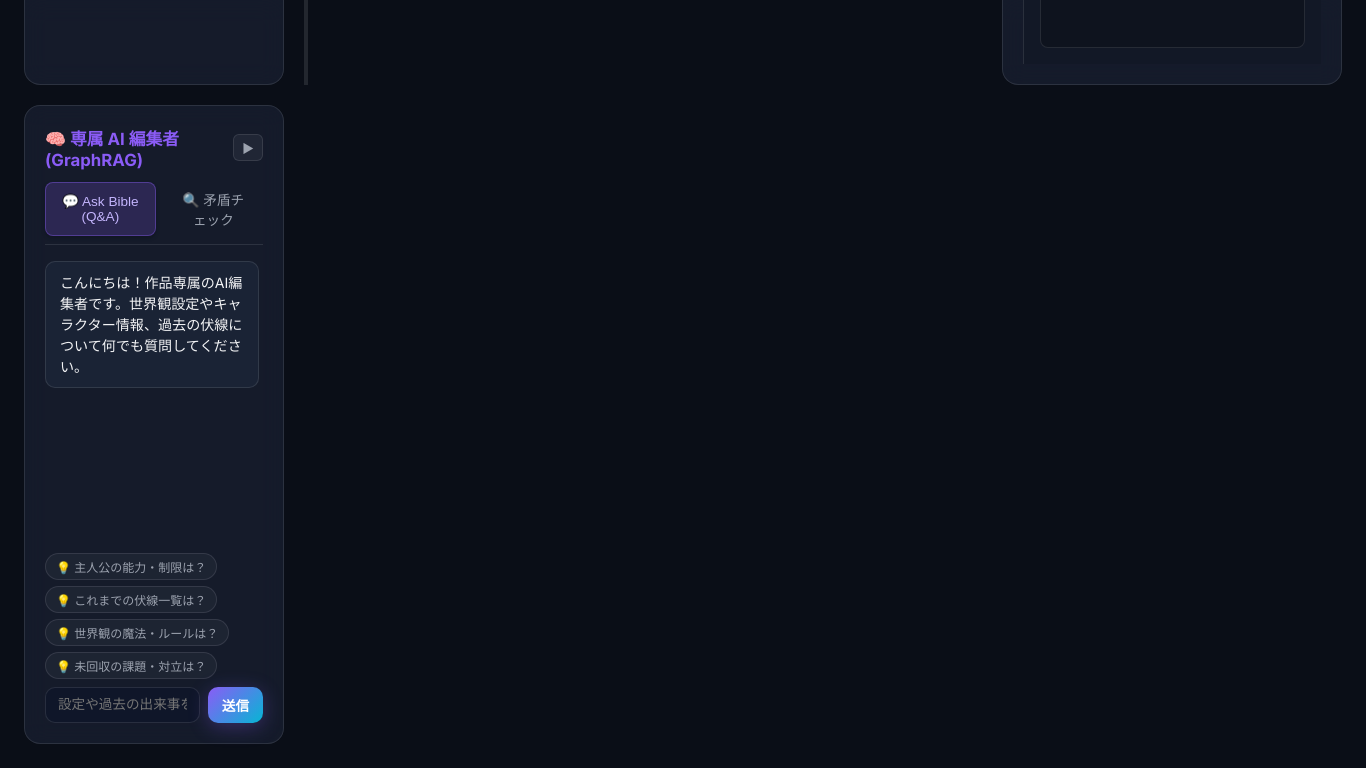
StudioWorkspace component › renders studio components with synchronized context data
(page scrolled)
// Ask Bible の Q&A 送信
Type "古代魔導剣術の歴史は？" into the field with test id "input-ask-bible" at (122, 704), box x1=45 y1=686 x2=200 y2=722
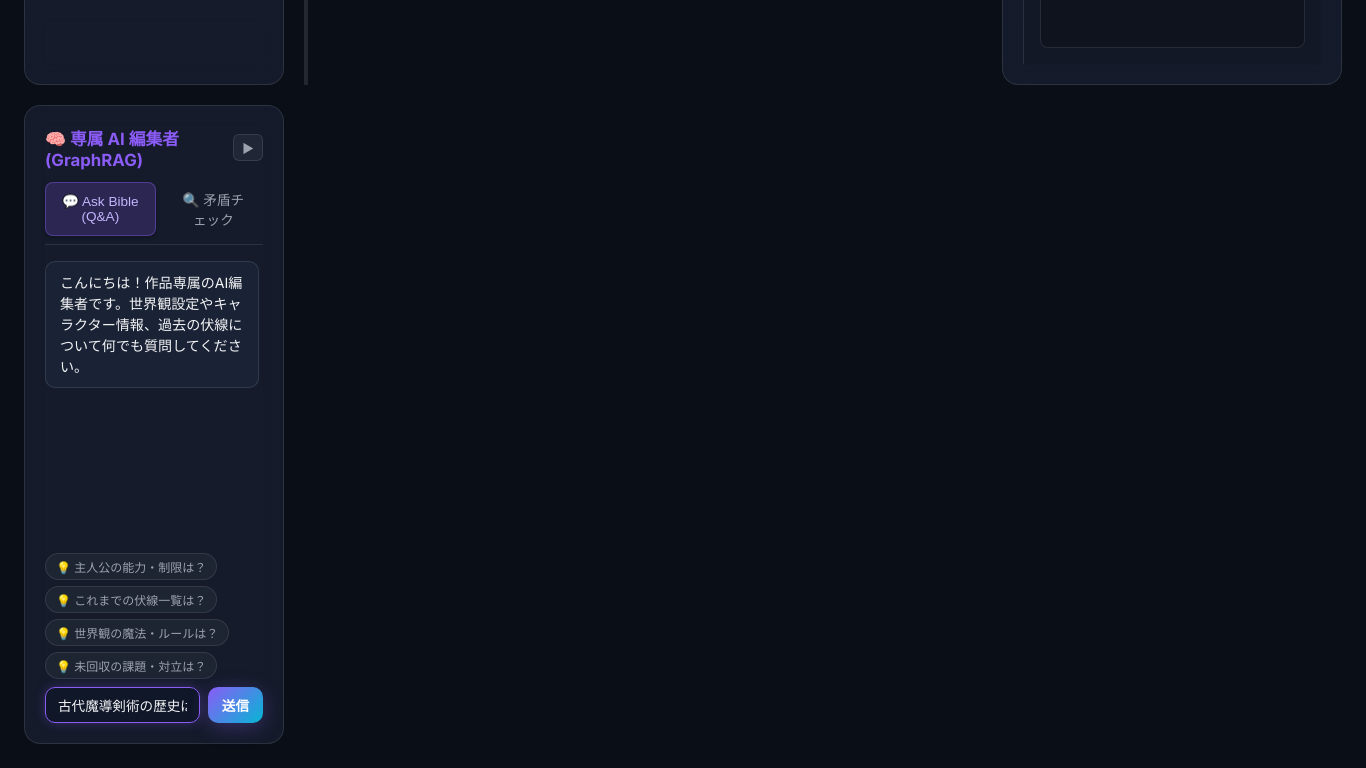
Click the button with test id "btn-submit-ask-bible" at (235, 704), box x1=208 y1=686 x2=263 y2=722
(page scrolled)
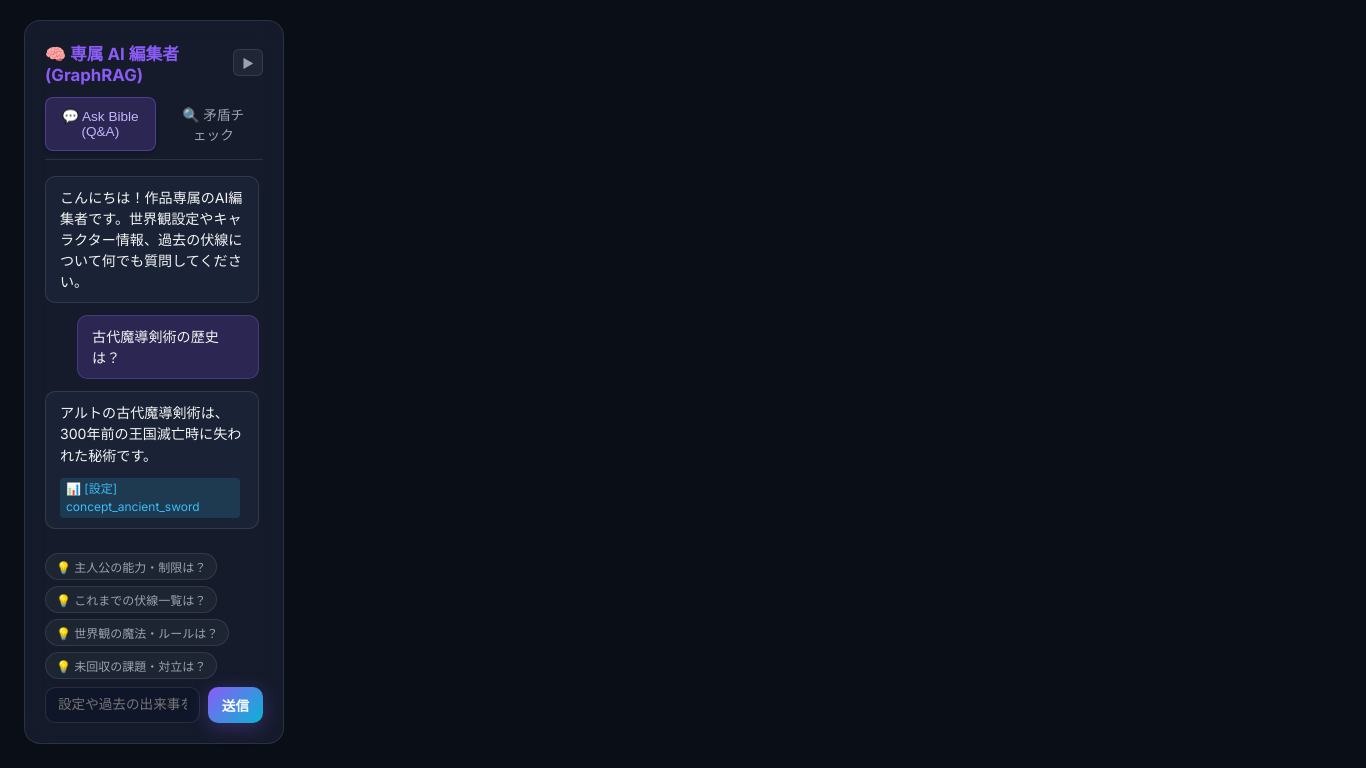
Result: the text "アルトの古代魔導剣術は、300年前の王国滅亡時に失われた秘術です。" is shown at x1=60 y1=402 x2=244 y2=466
